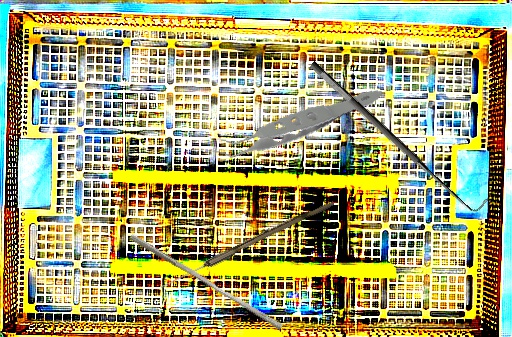Hook Surgical: (306, 48, 490, 221)
Pusher: (125, 233, 287, 331)
Surgical Spoon: (159, 196, 335, 293)
Tissue Forceps: (204, 59, 383, 184)
